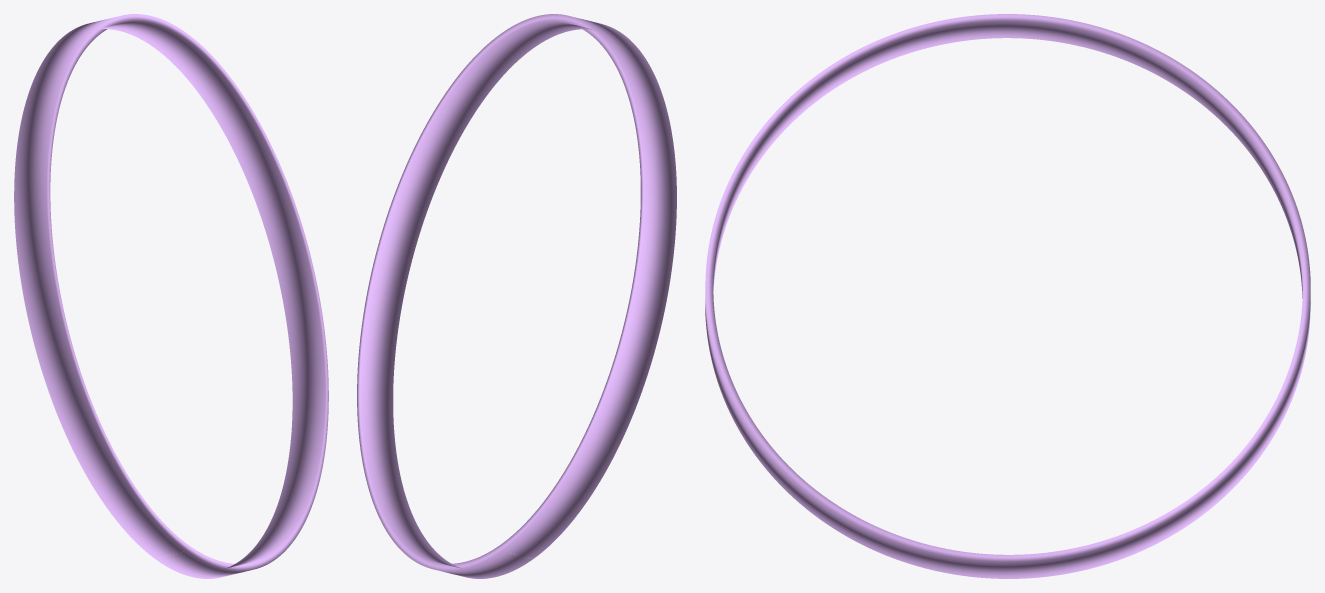
File: coil_coil_6_tube.gltf
3 views of the same model, side by side, from view 1: azimuth 30°, elevation 25°; view 2: azimuth 150°, elevation 25°; view 3: azimuth 270°, elevation 25° (orthographic). The views are drawn at different scales.
Visible parts, largest first — view 1: Renderer Node; view 2: Renderer Node; view 3: Renderer Node.
Boxes of the visible parts, left/top/right/bottom form: Renderer Node: left=14, top=14, right=328, bottom=578; Renderer Node: left=357, top=14, right=676, bottom=578; Renderer Node: left=705, top=14, right=1310, bottom=578.
Bounding box in the file's own units: 0.0435 × 0.6081 × 0.6082.
